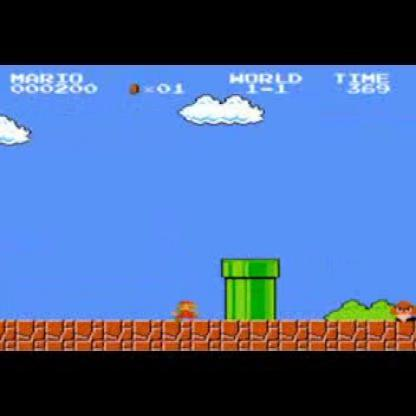Goomba: (390, 299, 415, 321)
